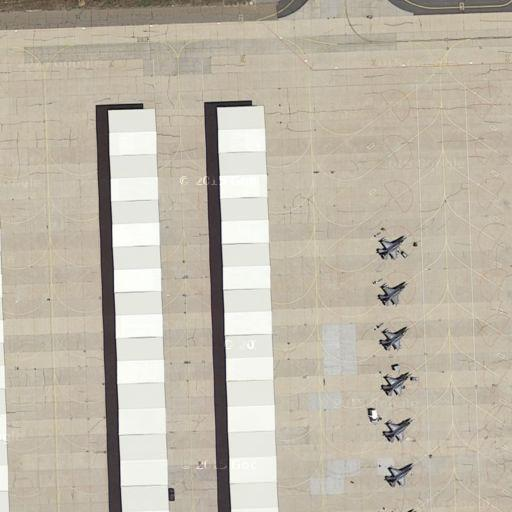F-16: (372, 233, 411, 264), (376, 323, 411, 354), (377, 418, 415, 446), (380, 369, 414, 399), (377, 279, 408, 309), (384, 463, 417, 489)
